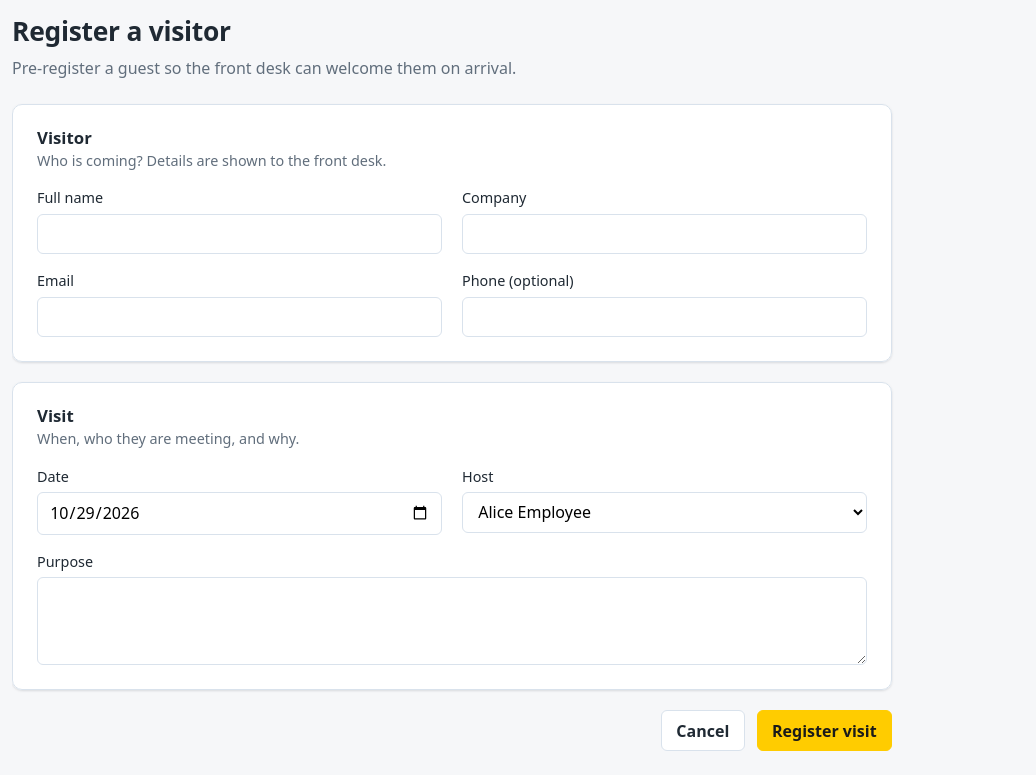
RegisterVisitPage › shows a form-level error with a reference for server failures
The width and height of the screenshot is (1036, 775).
Type "Victor Visitor" into the field labelled "Full name" at [240, 234], box x1=37 y1=214 x2=442 y2=254
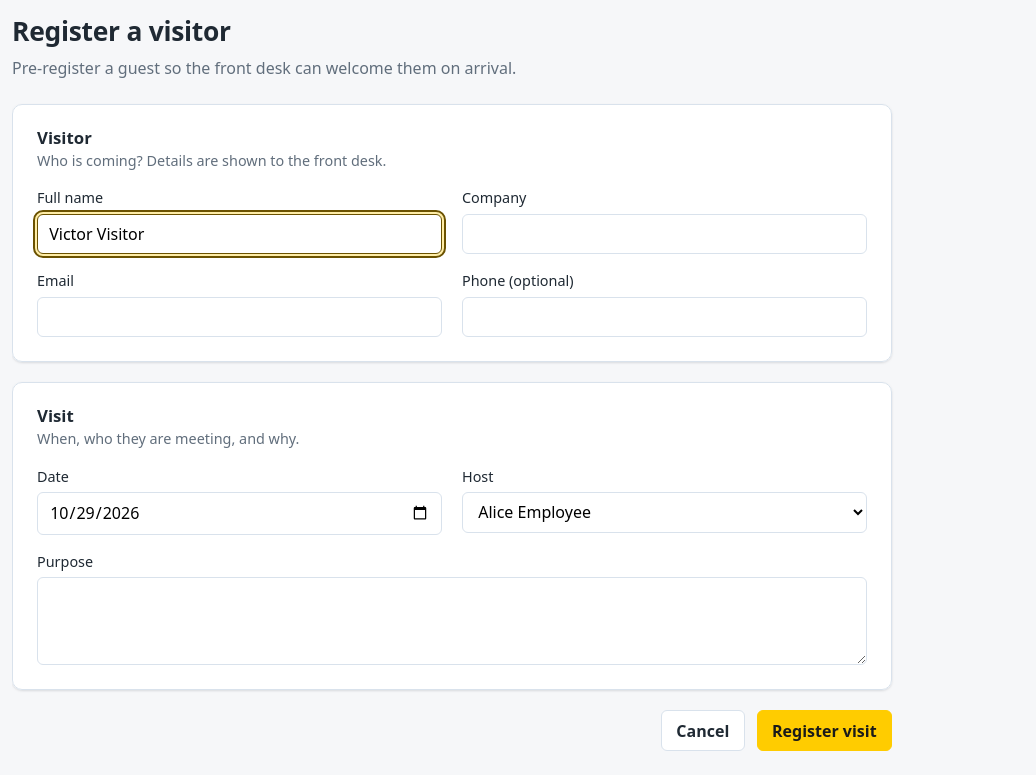
Type "victor@example.com" into the field labelled "Email" at [240, 317], box x1=37 y1=297 x2=442 y2=337
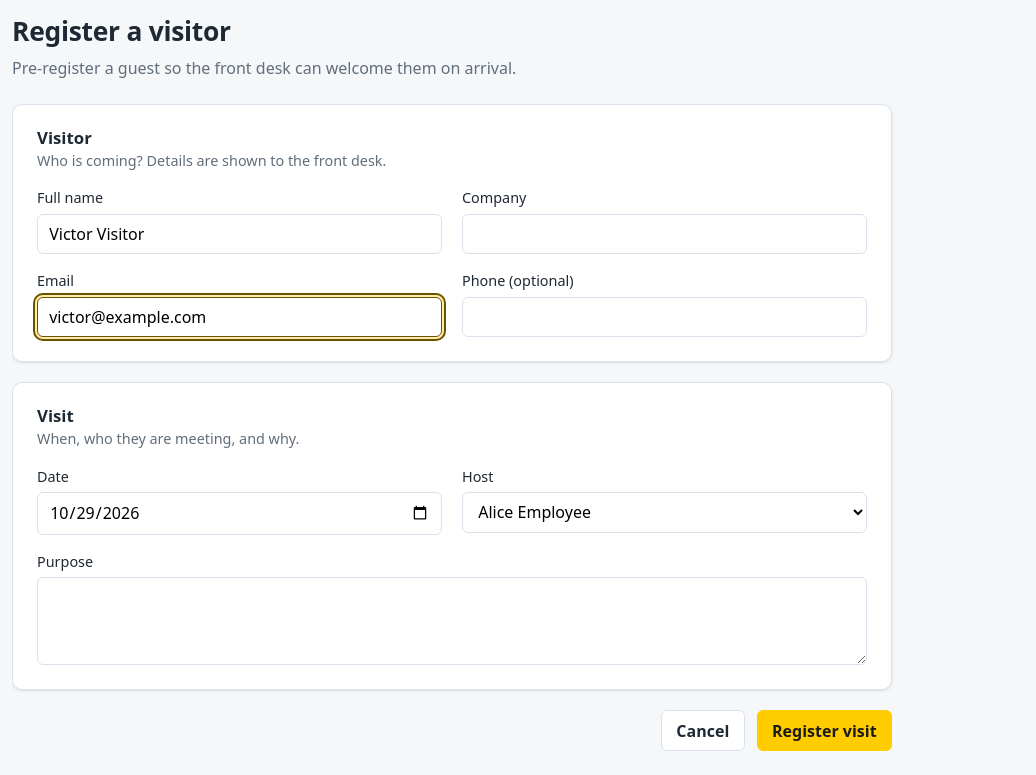
Type "Globex" into the field labelled "Company" at [664, 234], box x1=462 y1=214 x2=867 y2=254
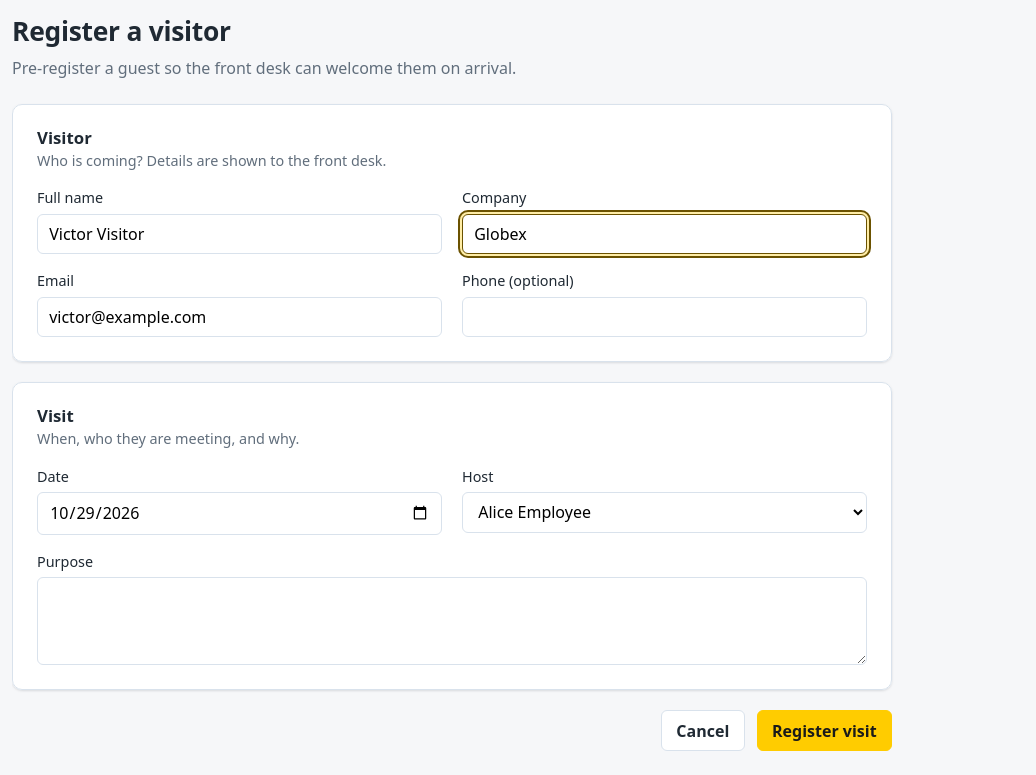
Type "Quarterly review" into the text box labelled "Purpose" at [452, 621], box x1=37 y1=577 x2=867 y2=665
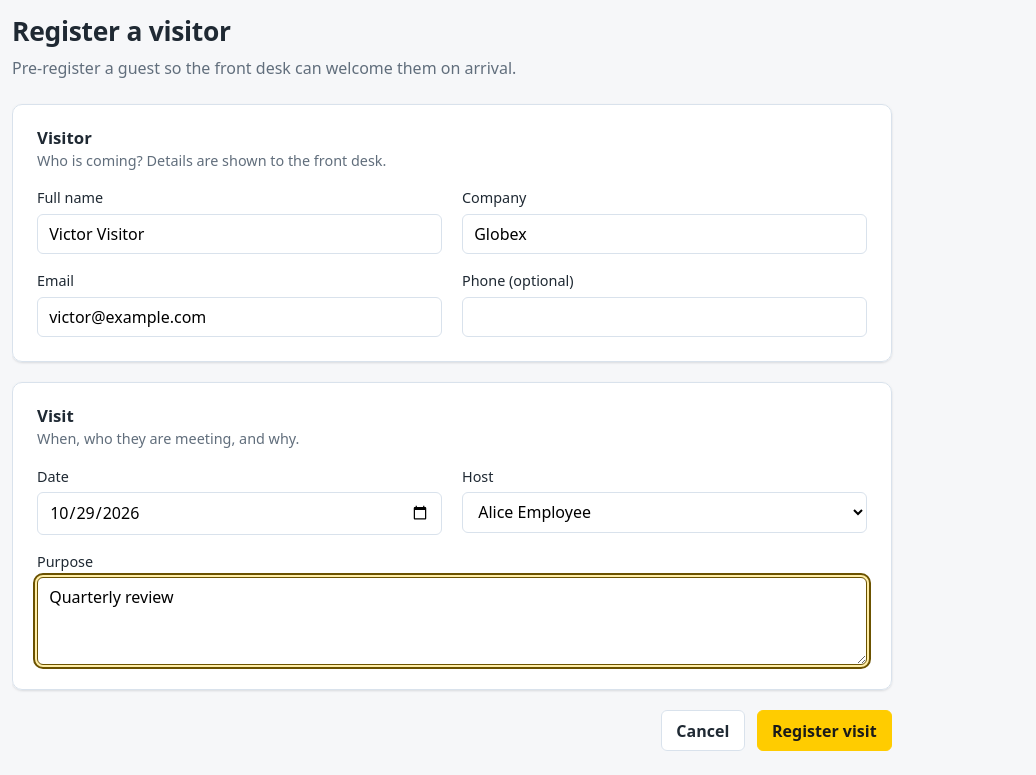
Click the button "Register visit" at [824, 730], box x1=757 y1=710 x2=892 y2=751
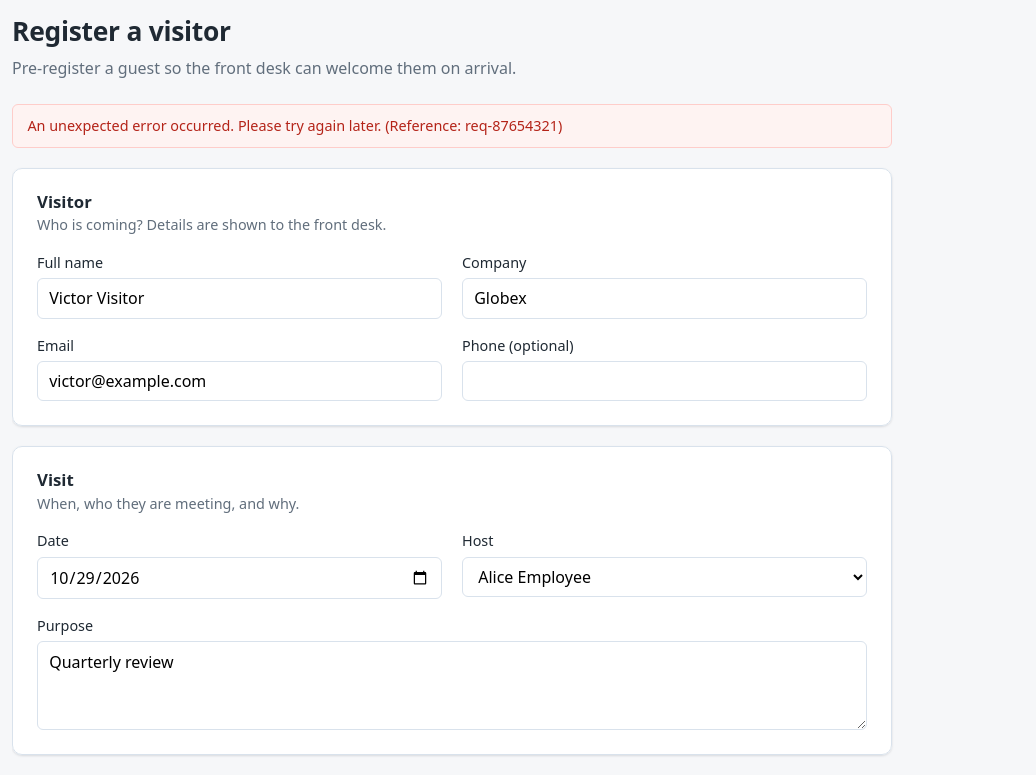
Check: the text "Reference: req-87654321" is shown, box x1=27 y1=116 x2=562 y2=135
